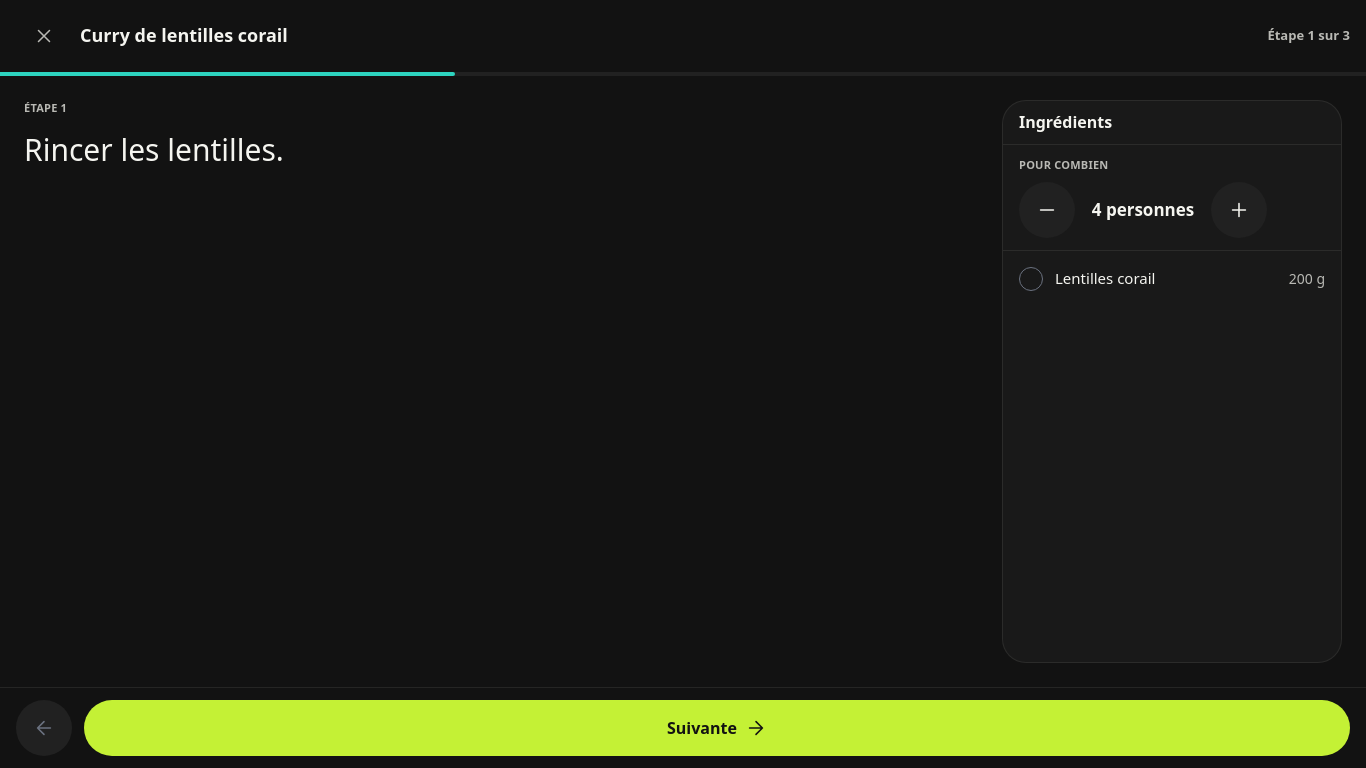
Test: the cooking session › works with no storage at all
Click the button "Suivante".
click(717, 728)  # box [84, 700, 1350, 756]
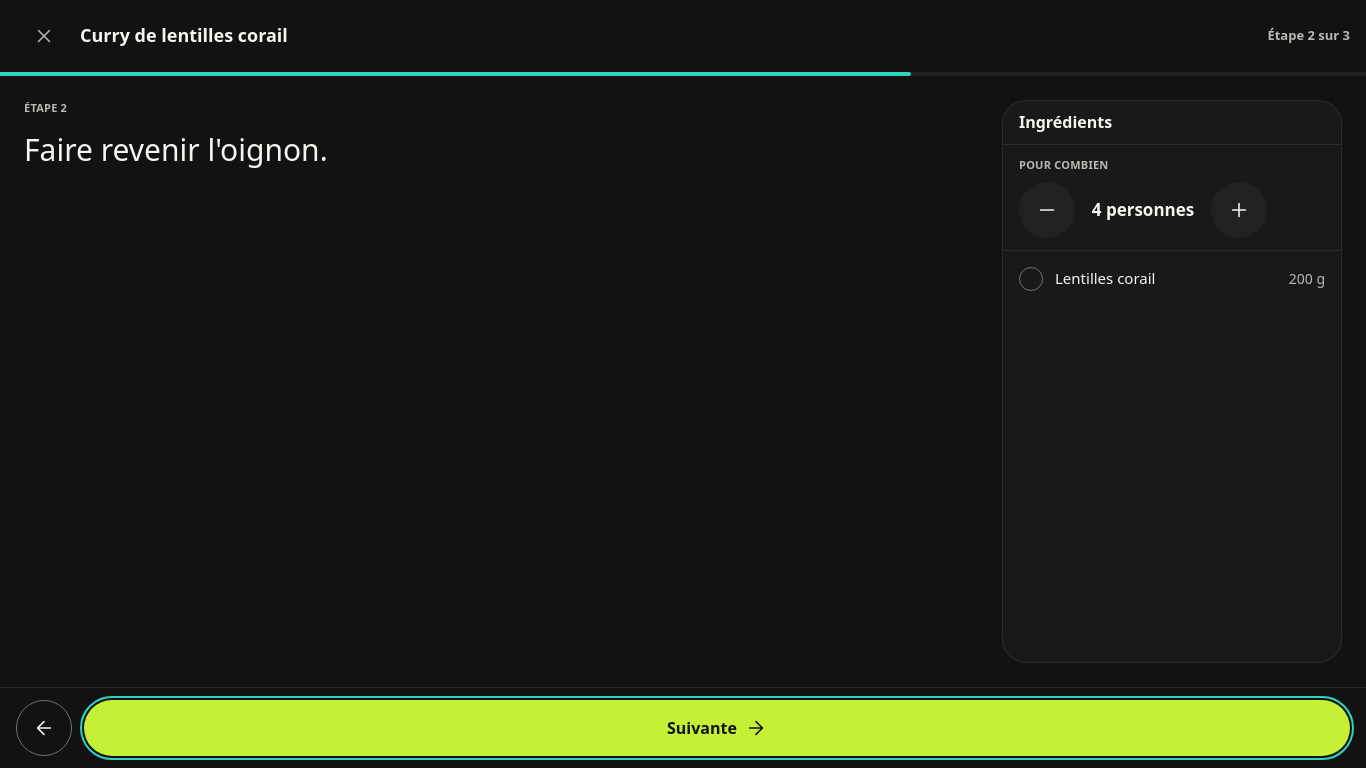
Check: the text with test id "cook-progress" reads "Étape 2 sur 3", box [1267, 26, 1350, 44]
